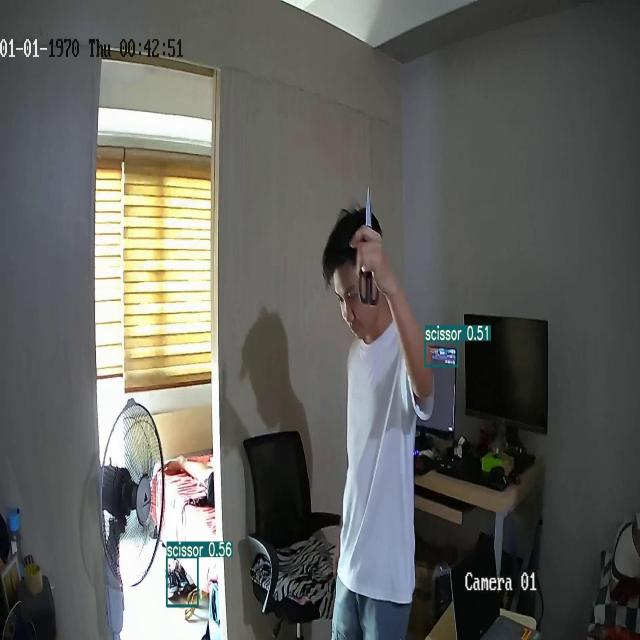scissor: (359, 186, 380, 307)
